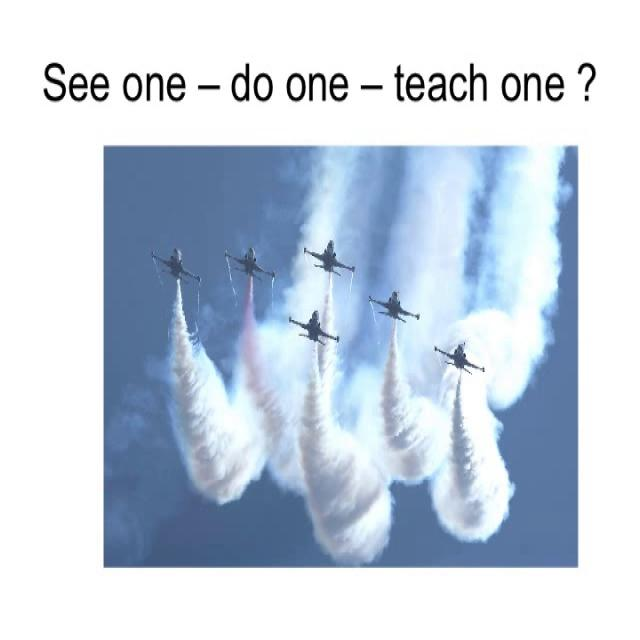image: (103, 145, 578, 568)
